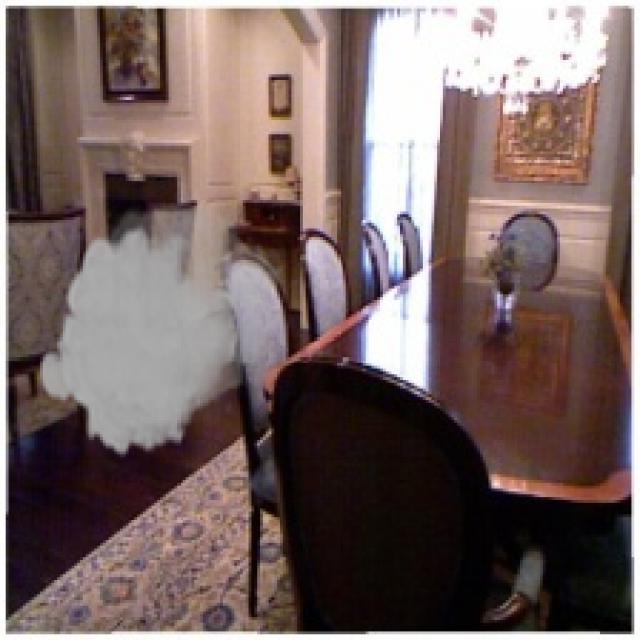smoke: (37, 206, 292, 460)
